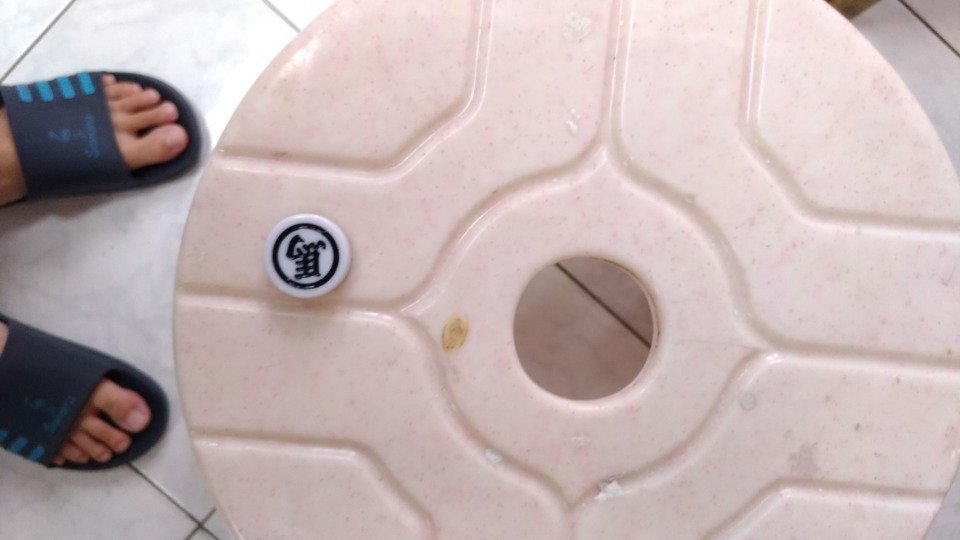b-knight: (246, 202, 373, 318)
